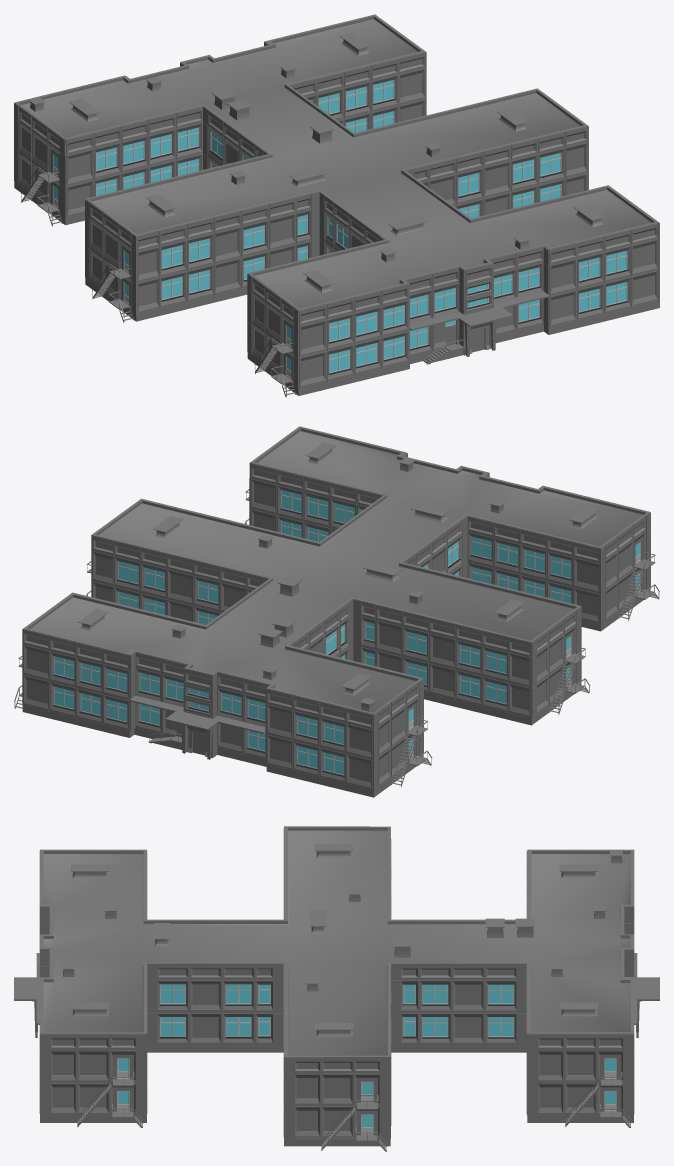
File: Children house.FBX
3 views of the same model, one above another, from view 1: azimuth 30°, elevation 25°; view 2: azimuth 150°, elevation 25°; view 3: azimuth 270°, elevation 25° (orthographic). The views are drawn at different scales.
Visible parts, largest first — view 1: detsadvl52; view 2: detsadvl52; view 3: detsadvl52.
Part boxes in pixels (x1,y1,x2,y2): detsadvl52: (14, 14, 659, 397); detsadvl52: (14, 426, 659, 797); detsadvl52: (14, 826, 659, 1151).
Size of the model in its own units: 56.3 by 10.58 by 63.63.
